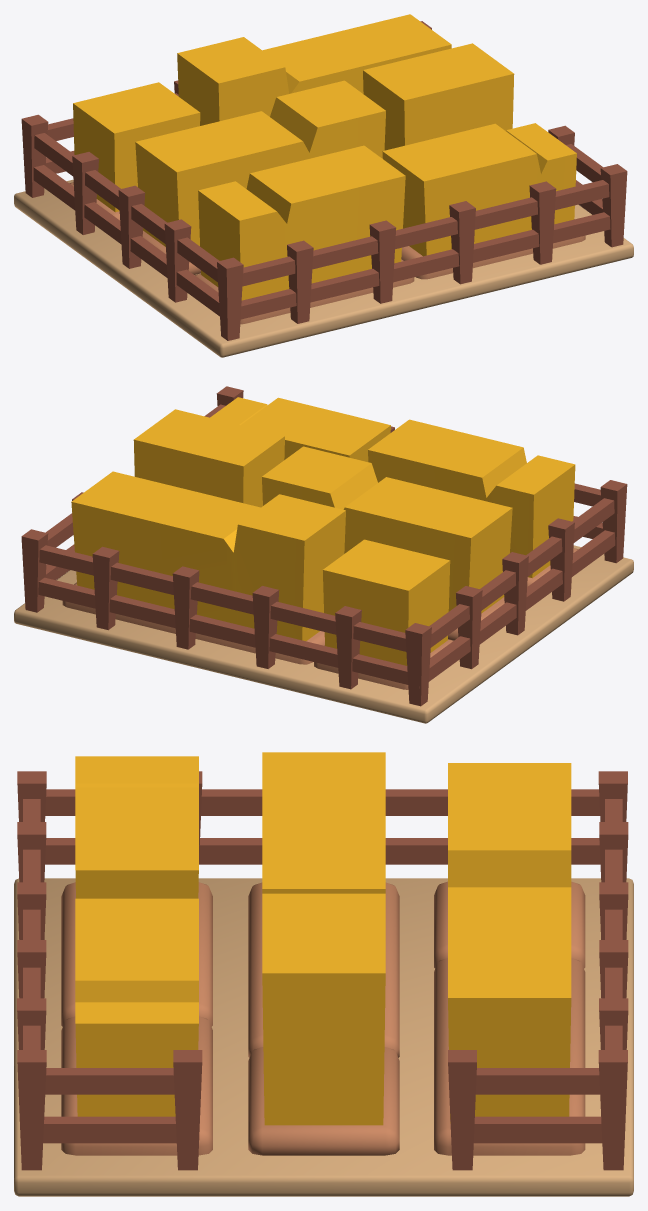
Rendered from kaykit-farm-plot.glb.
The picture shows the model from 3 angles, top to bottom: view 1: azimuth 30°, elevation 25°; view 2: azimuth 150°, elevation 25°; view 3: azimuth 270°, elevation 25°; orthographic projection. The views are drawn at different scales.
Visible parts, largest first — view 1: farm_wheat, farm_plot; view 2: farm_wheat, farm_plot; view 3: farm_plot, farm_wheat.
Boxes of the visible parts, x1=… form: farm_wheat: x1=73, y1=14, x2=576, y2=300; farm_plot: x1=14, y1=21, x2=633, y2=357; farm_wheat: x1=71, y1=397, x2=575, y2=665; farm_plot: x1=14, y1=386, x2=633, y2=723; farm_plot: x1=14, y1=771, x2=633, y2=1196; farm_wheat: x1=75, y1=752, x2=571, y2=1125.
Size of the model in its own units: 1.47 by 0.4565 by 1.28.
